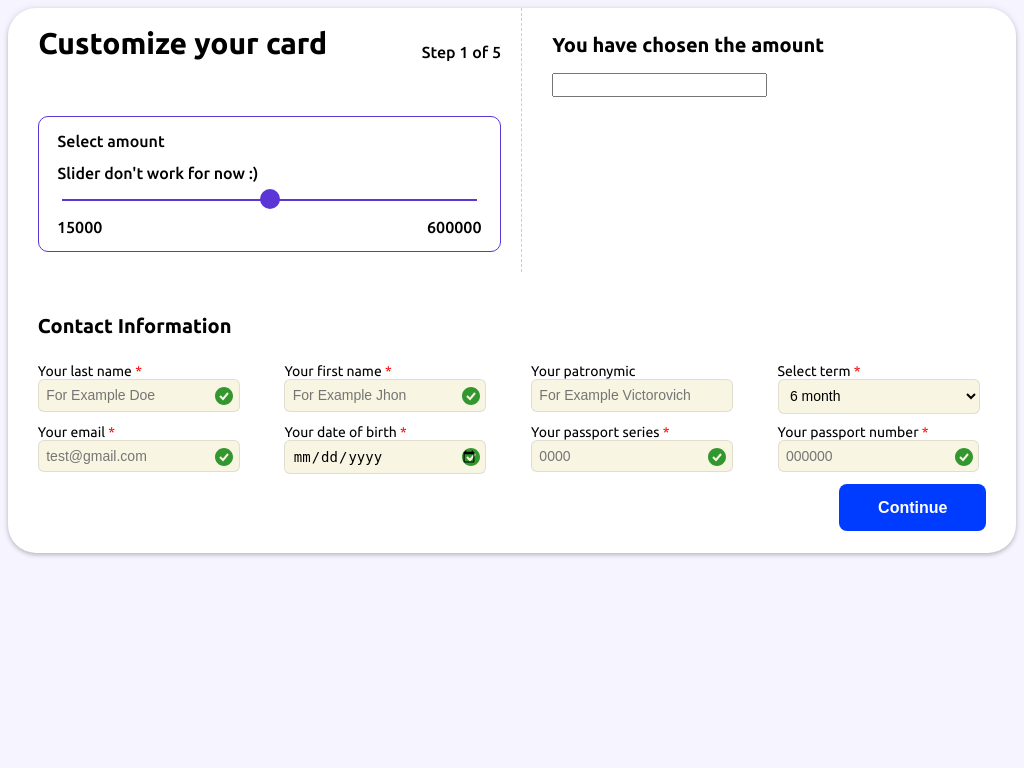
Test: Form component › with invalid email › renders the email validation error
The image size is (1024, 768).
Step 1. Type "123" into the field labelled "Your email *" → (139, 456), box 38,440 -> 240,472
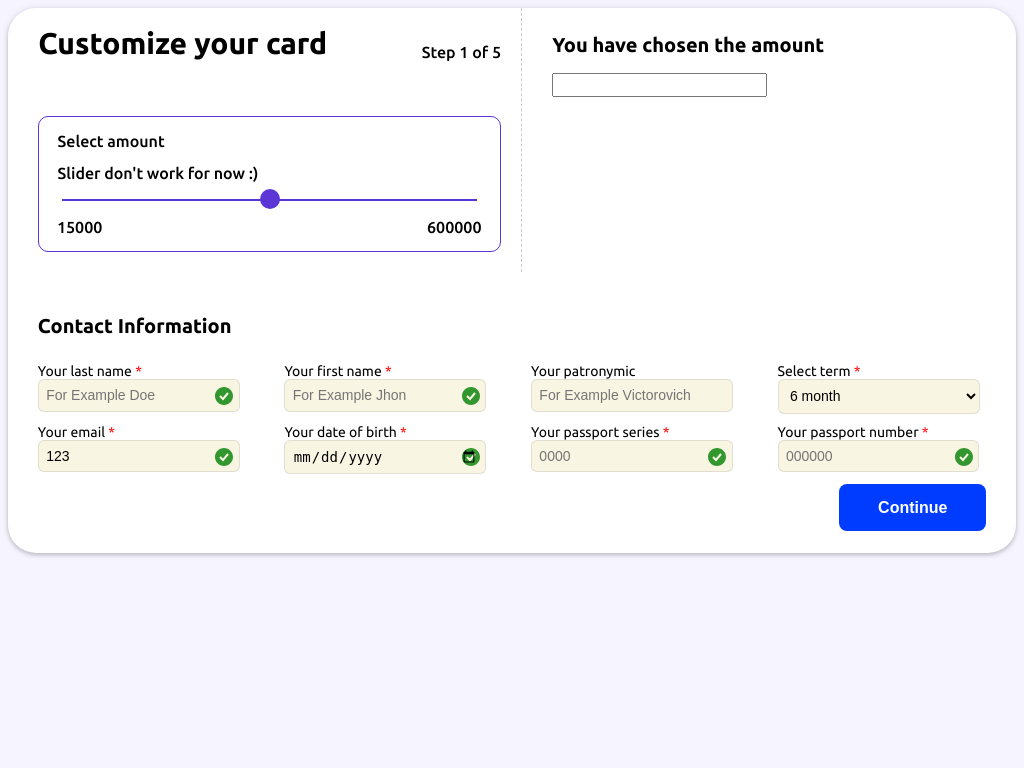
Step 2. Leave the field labelled "Your email *", box 38,440 -> 240,472
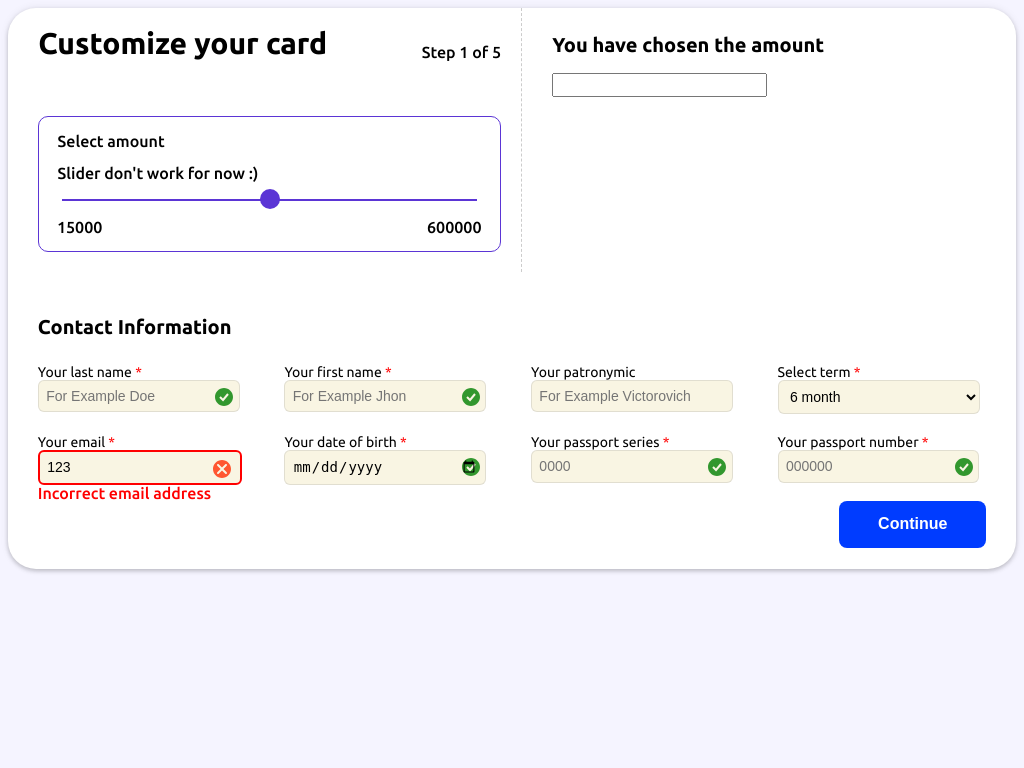
expect the text "Incorrect email address" is shown: met, box 38,484 -> 211,502
